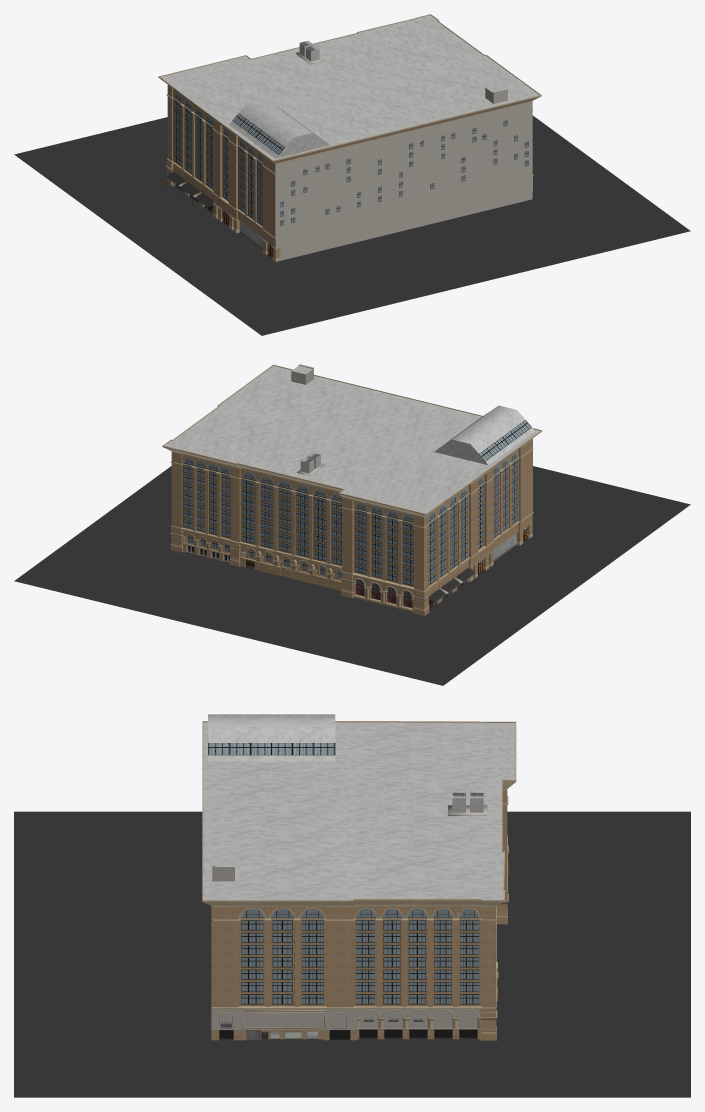
3 views of the same model, one above another, from view 1: azimuth 30°, elevation 25°; view 2: azimuth 150°, elevation 25°; view 3: azimuth 270°, elevation 25° (orthographic). The views are drawn at different scales.
Visible parts, largest first — view 1: Plane; view 2: Plane; view 3: Plane.
Part boxes in pixels (left/top/right/bottom): Plane: left=14, top=14, right=690, bottom=335; Plane: left=14, top=364, right=690, bottom=685; Plane: left=14, top=714, right=690, bottom=1097.
Bounding box in the file's own units: 1336 × 361 × 1336.
Materials: 3 (2 with a texture image).
